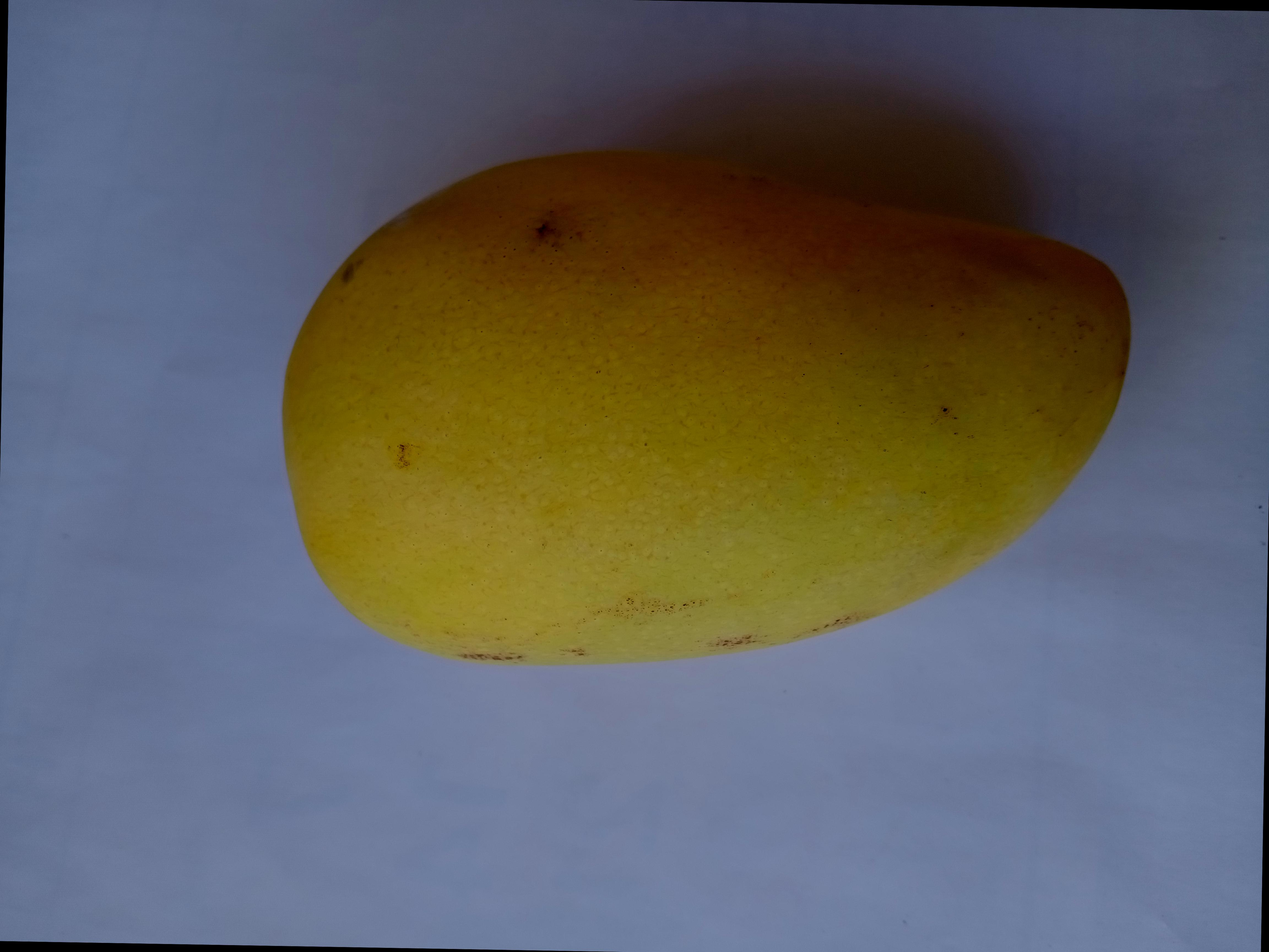Mango Ripe: (258, 101, 1174, 690)
